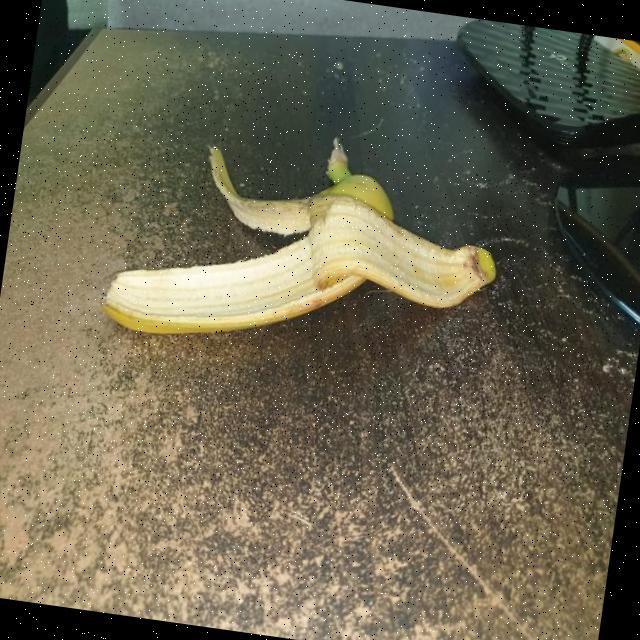banana-peel: (98, 107, 512, 381)
